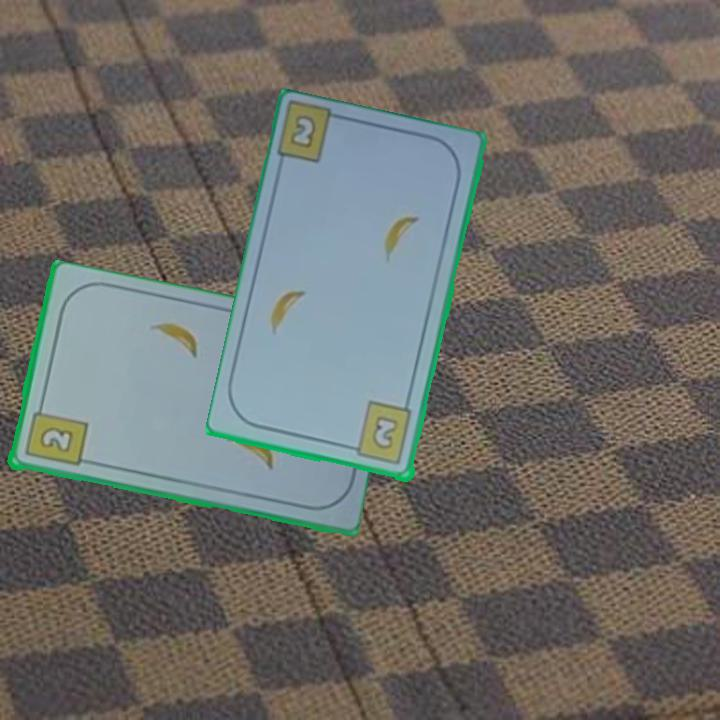2b: (344, 399, 416, 468), (21, 400, 89, 469), (286, 111, 320, 152)
